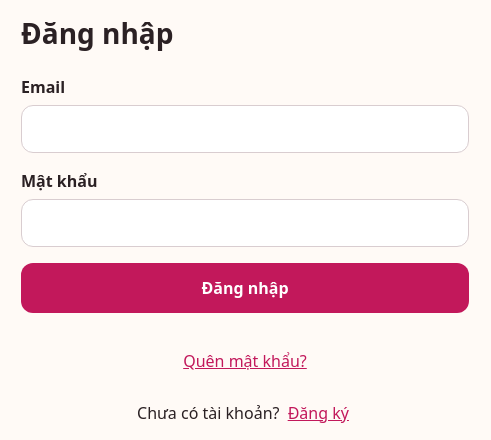
Test: SignInPage ignores a redirect target outside the app
In the field labelled "Email": coordinates (245, 129) [21,105,469,153], type "an@example.com"
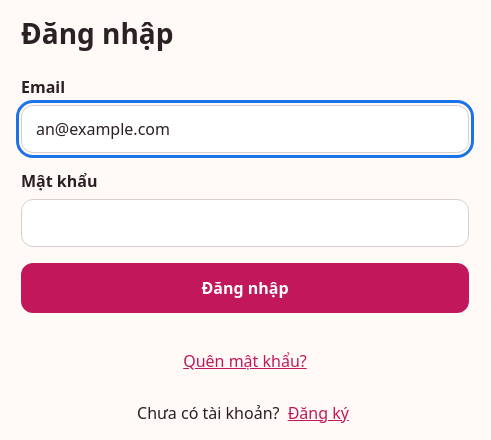
In the password field labelled "Mật khẩu": coordinates (245, 223) [21,199,469,247], type "mat-khau-dai"
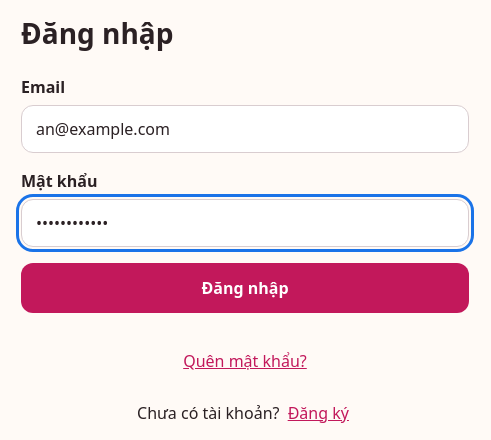
Click the button "Đăng nhập": coordinates (245, 288) [21,263,469,313]
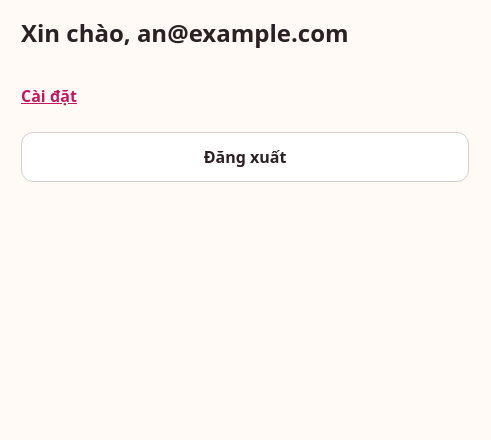
Expected: the heading "Xin chào, an@example.com" is shown, [21,16,349,49]
